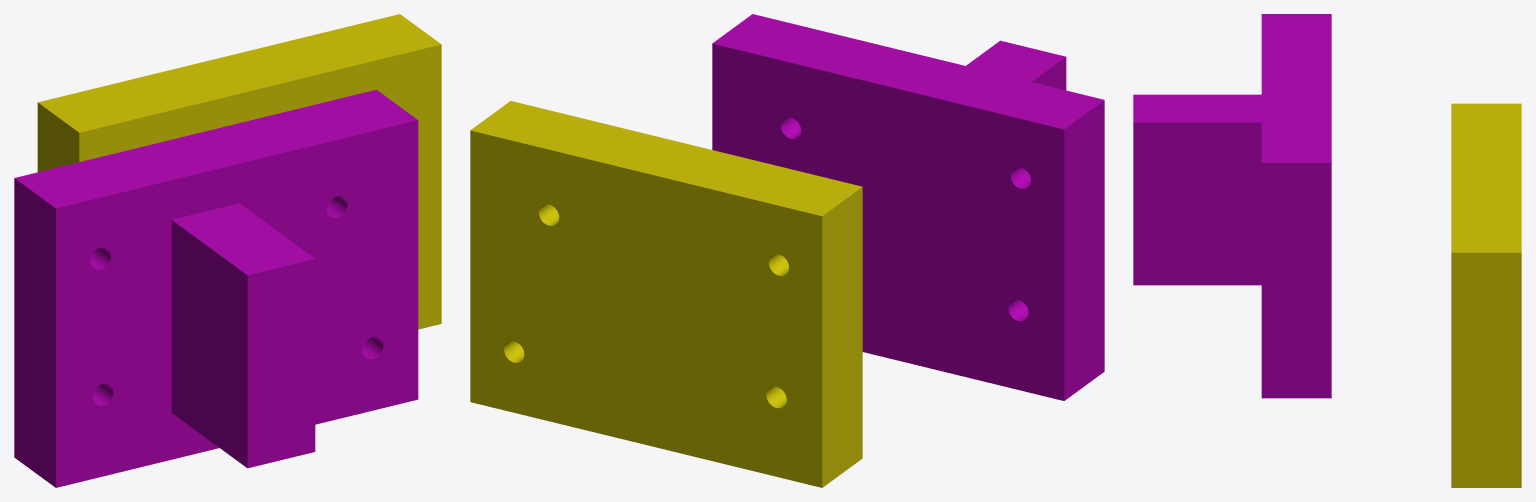
The model's file is Asm1.obj.
The picture shows the model from 3 angles, left to right: view 1: azimuth 30°, elevation 25°; view 2: azimuth 150°, elevation 25°; view 3: azimuth 270°, elevation 25°; orthographic projection. The views are drawn at different scales.
Visible parts, largest first — view 1: Asm1; view 2: Asm1; view 3: Asm1.
Boxes of the visible parts, x1,y1,x2,y2 form: Asm1: [14, 14, 441, 487]; Asm1: [470, 14, 1104, 487]; Asm1: [1133, 14, 1521, 487].
Bounding box in the file's own units: 239 × 147 × 192.
